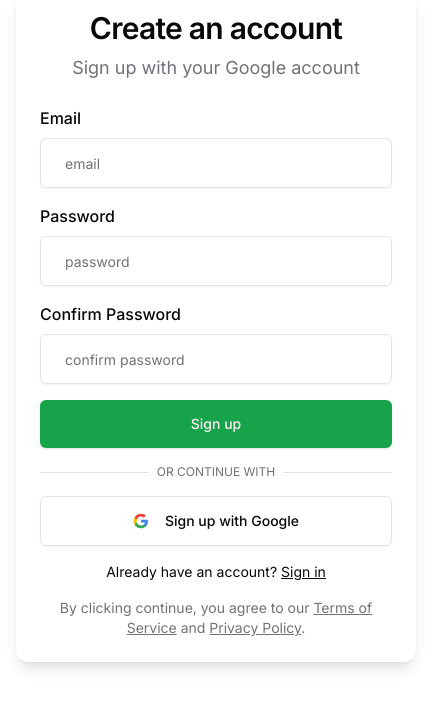
Test case: SignUpForm › should display error message when passwords do not match
Step 1. Type "test@example.com" into the field with placeholder "Email" → (216,163), box [40, 138, 392, 188]
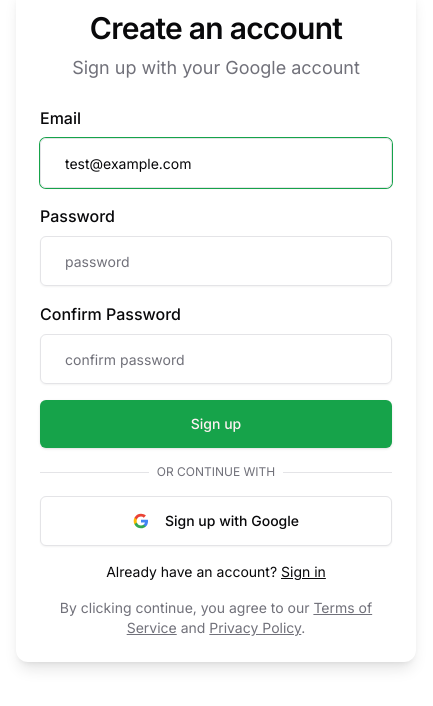
Step 2. Type "password123" into the password field with placeholder "Password" → (216,261), box [40, 236, 392, 286]
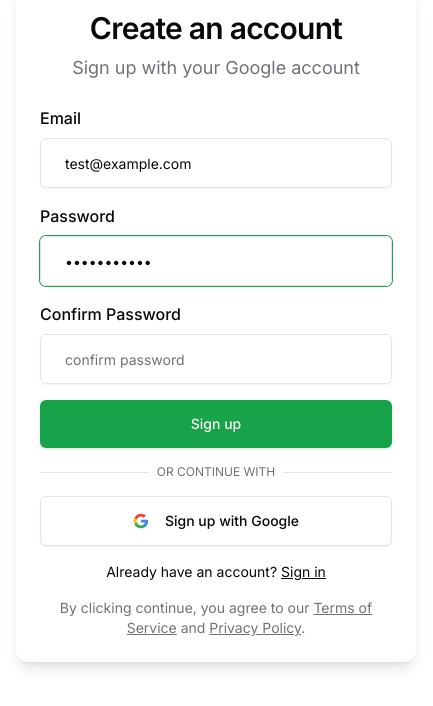
Step 3. Type "password456" into the password field with placeholder "Confirm Password" → (216,359), box [40, 334, 392, 384]
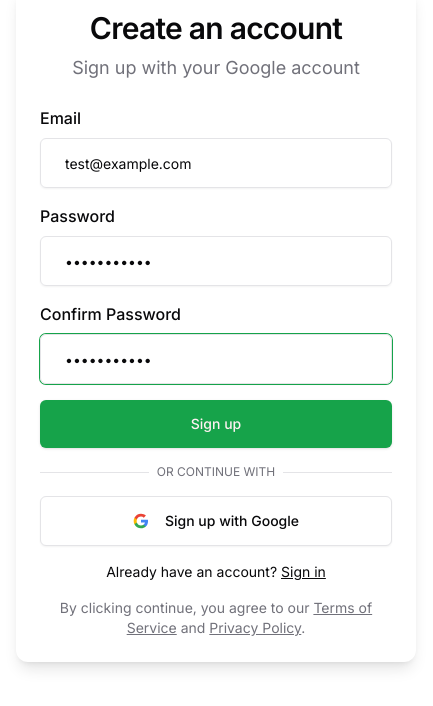
Step 4. Click the button with test id "signup-button" → (216,424), box [40, 400, 392, 448]
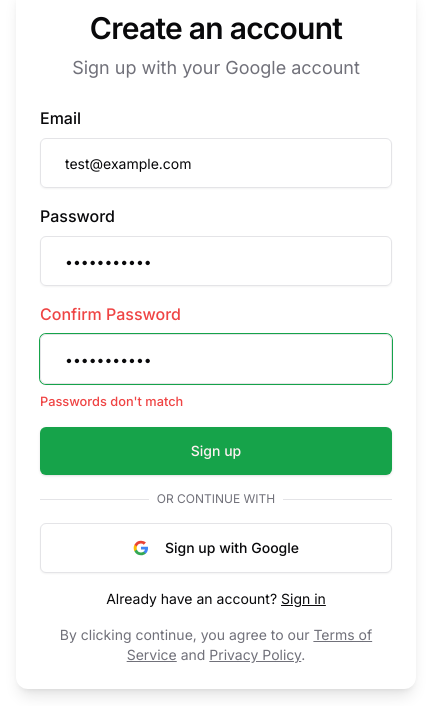
Expected: the text "Passwords don't match" is shown, [40, 394, 183, 409]
